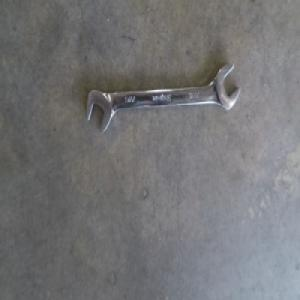Wrench: (87, 63, 237, 133)
